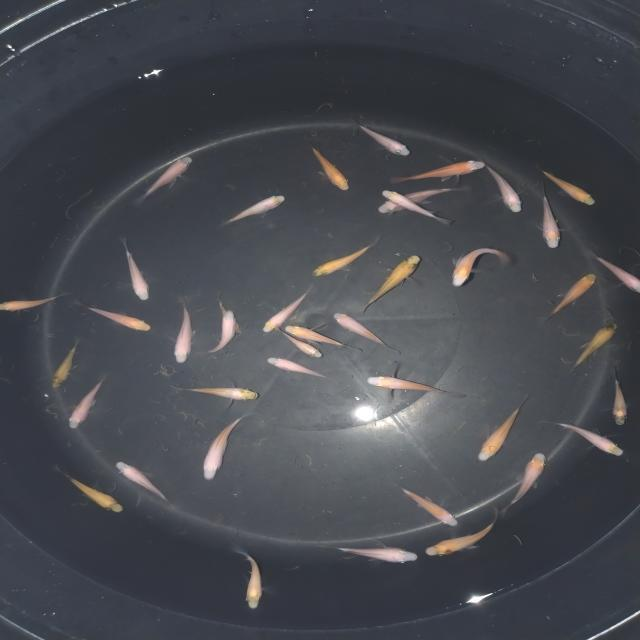nila: (472, 396, 536, 467), (354, 252, 426, 311), (50, 461, 124, 516), (352, 368, 464, 404), (200, 411, 252, 487), (418, 512, 498, 560), (387, 479, 462, 528), (373, 182, 466, 220), (442, 244, 516, 290), (553, 416, 625, 463), (113, 453, 176, 506), (60, 372, 112, 433), (331, 307, 399, 353), (504, 448, 552, 513), (258, 286, 318, 338), (376, 185, 452, 226), (564, 320, 620, 373), (139, 150, 195, 202), (543, 268, 598, 320), (309, 239, 377, 281), (537, 167, 602, 210), (391, 156, 494, 183), (482, 156, 526, 217), (583, 248, 640, 295), (337, 539, 423, 569), (354, 119, 416, 160), (281, 324, 361, 355), (116, 238, 152, 306), (307, 143, 355, 194), (168, 298, 202, 368), (237, 543, 270, 615), (172, 381, 265, 405), (219, 194, 291, 224), (536, 183, 566, 254), (86, 304, 158, 333), (269, 324, 326, 360), (46, 339, 86, 390), (266, 355, 330, 383), (206, 307, 240, 358), (213, 288, 248, 336), (0, 291, 62, 318), (604, 372, 630, 429)
